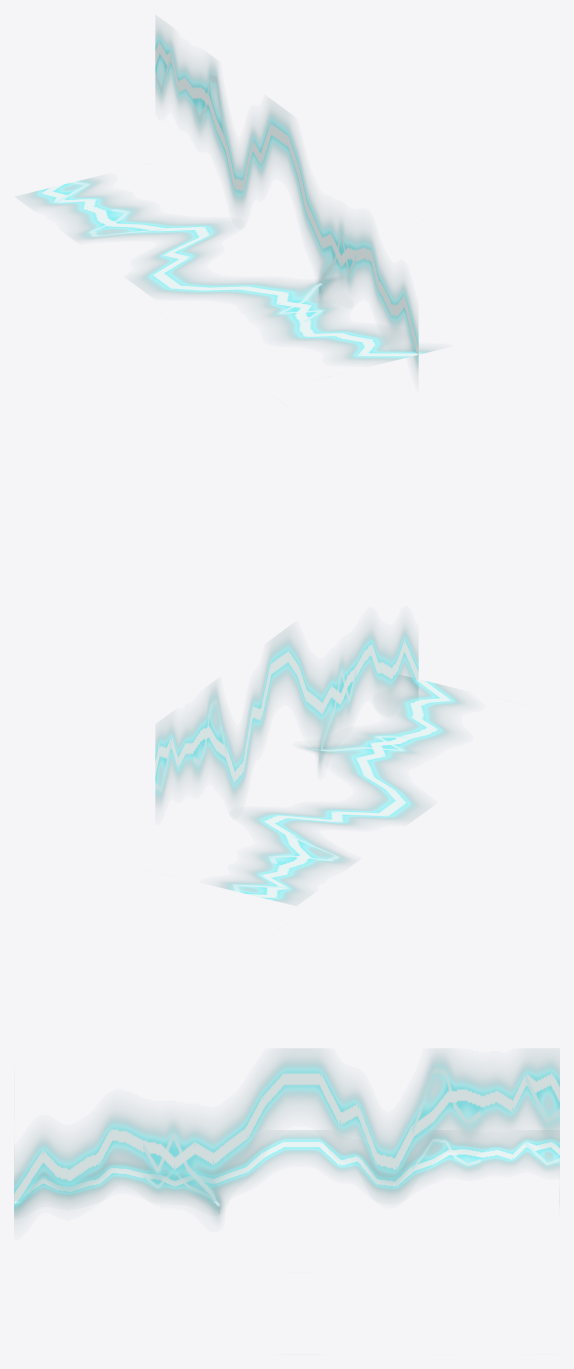
The model's file is fx_arc_t2.glb.
3 views of the same model, one above another, from view 1: azimuth 30°, elevation 25°; view 2: azimuth 150°, elevation 25°; view 3: azimuth 270°, elevation 25° (orthographic). The views are drawn at different scales.
Parts seen in each view (by area): view 1: fx_arc; view 2: fx_arc; view 3: fx_arc.
Part boxes in pixels (bbox=[...]): fx_arc: bbox=[23, 23, 434, 371]; fx_arc: bbox=[155, 625, 465, 903]; fx_arc: bbox=[14, 1050, 559, 1219].
Size of the model in its own units: 0.62 by 0.62 by 1.
1 material, 1 textured.
